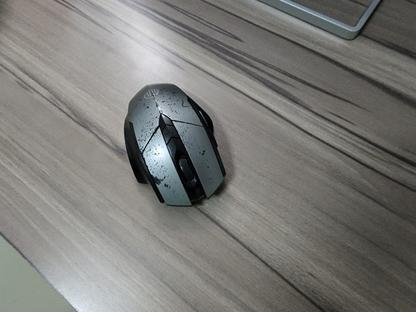mouse: (122, 82, 227, 207)
